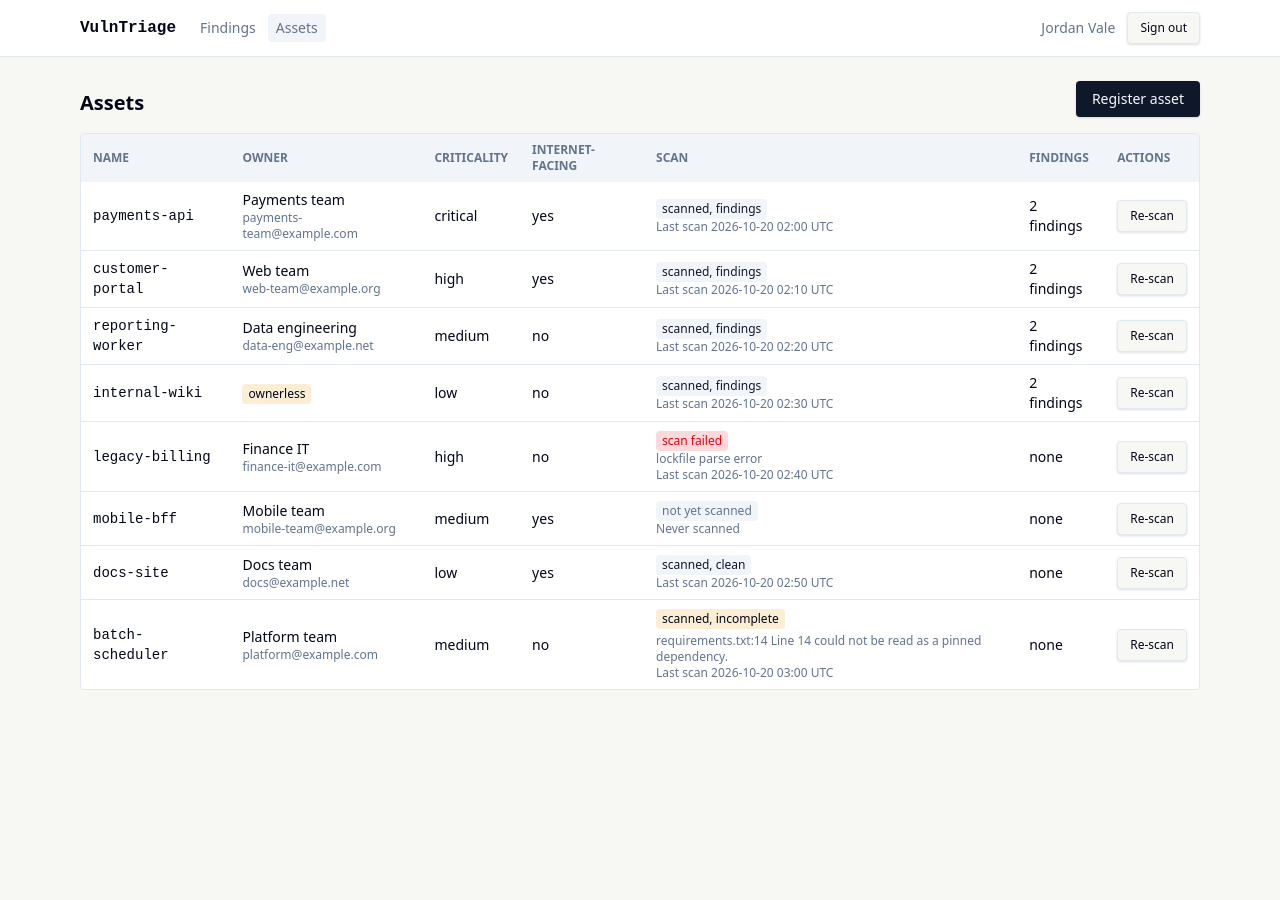
Test: contract-shaped screens › shows the re-scan error message when reScan rejects
Click the button with aria-label "Re-scan payments-api" at [1152, 216], box [1117, 200, 1187, 232]
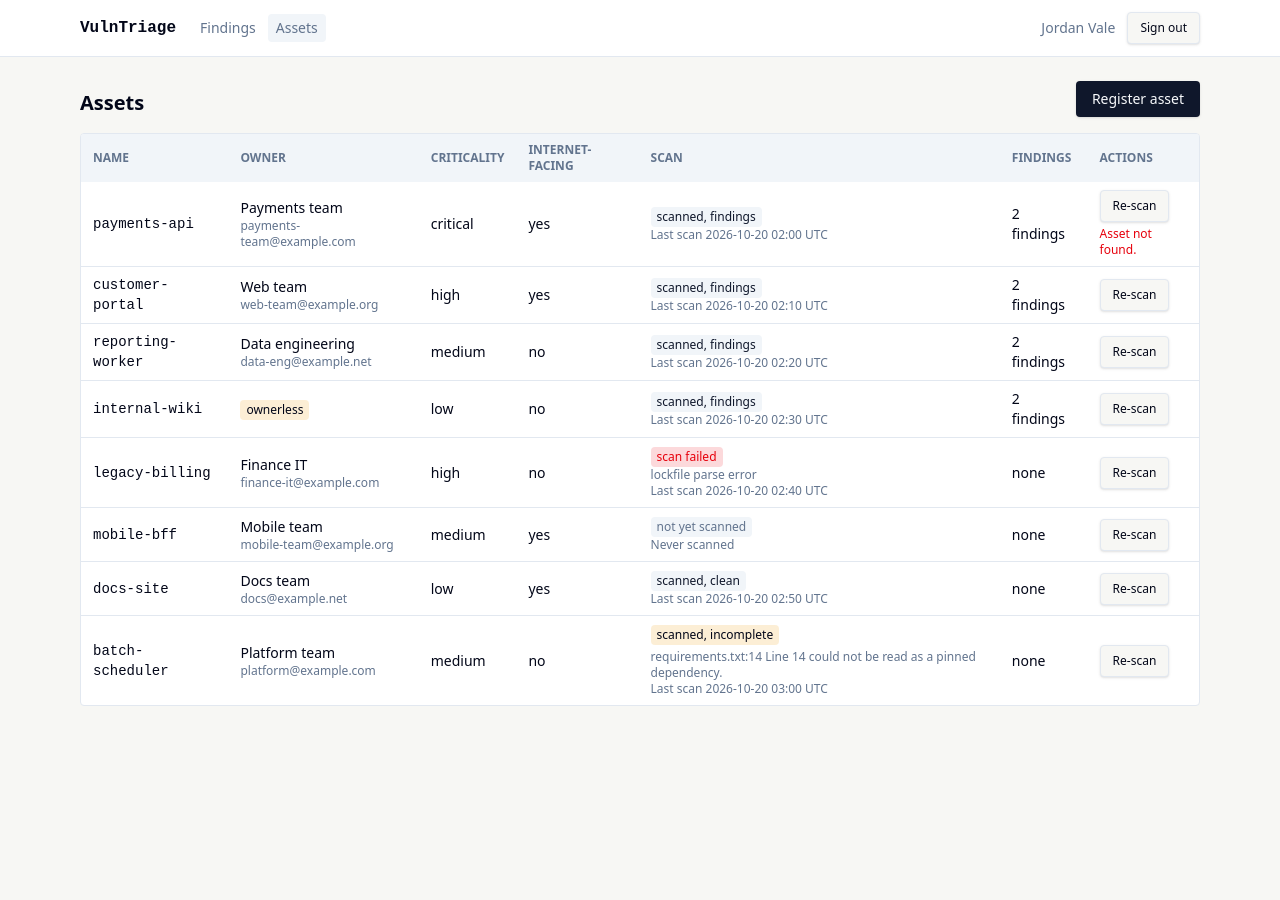
Expected: the message reads "Asset not found.", [1100, 225, 1152, 258]
